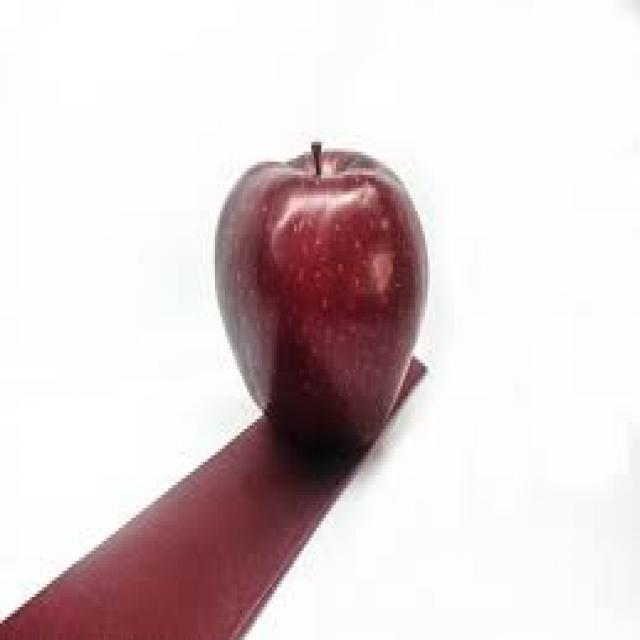Fresh Apple: (212, 152, 433, 466)
